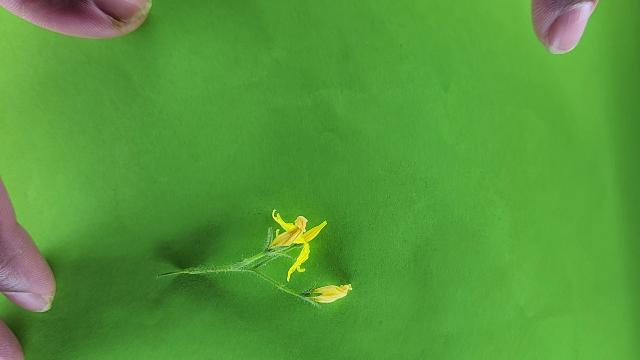Anthesis: (267, 211, 328, 281), (299, 281, 353, 304)
